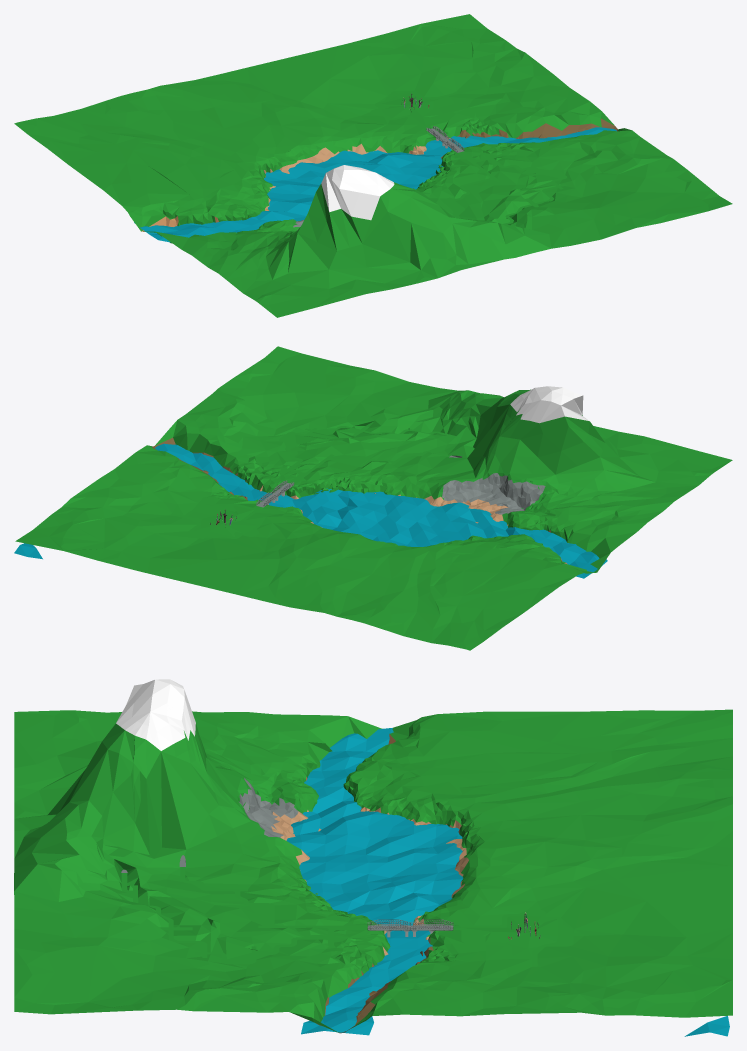
Rendered from map2official.fbx.
3 views of the same model, one above another, from view 1: azimuth 30°, elevation 25°; view 2: azimuth 150°, elevation 25°; view 3: azimuth 270°, elevation 25° (orthographic). The views are drawn at different scales.
Parts seen in each view (by area): view 1: Mesher, Plane.002; view 2: Mesher, Plane.002; view 3: Mesher, Plane.002, pCube1.
Boxes of the visible parts, x1,y1,x2,y2 form: Mesher: (14,14,732,317); Plane.002: (134,127,616,242); Mesher: (15,346,732,650); Plane.002: (14,443,607,578); Mesher: (14,679,732,1033); Plane.002: (286,728,729,1036); pCube1: (367,919,453,937).
Size of the model in its own units: 201791 by 58863 by 200015.
